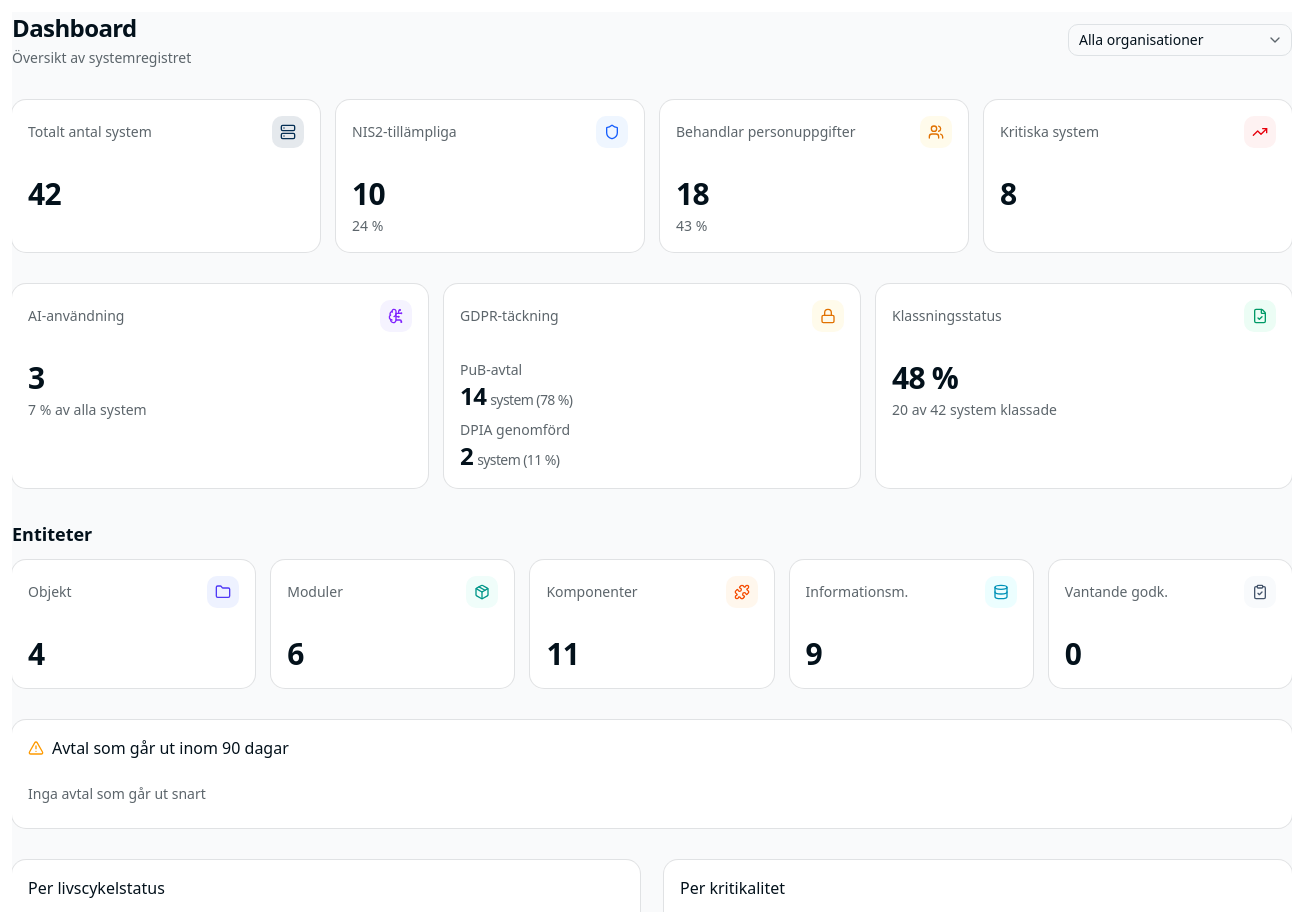
Scenario: DashboardPage › Organisation-filter › dropdown innehåller 'Alla organisationer'
Click the dropdown at (1180,40), box [1068,24,1292,56]
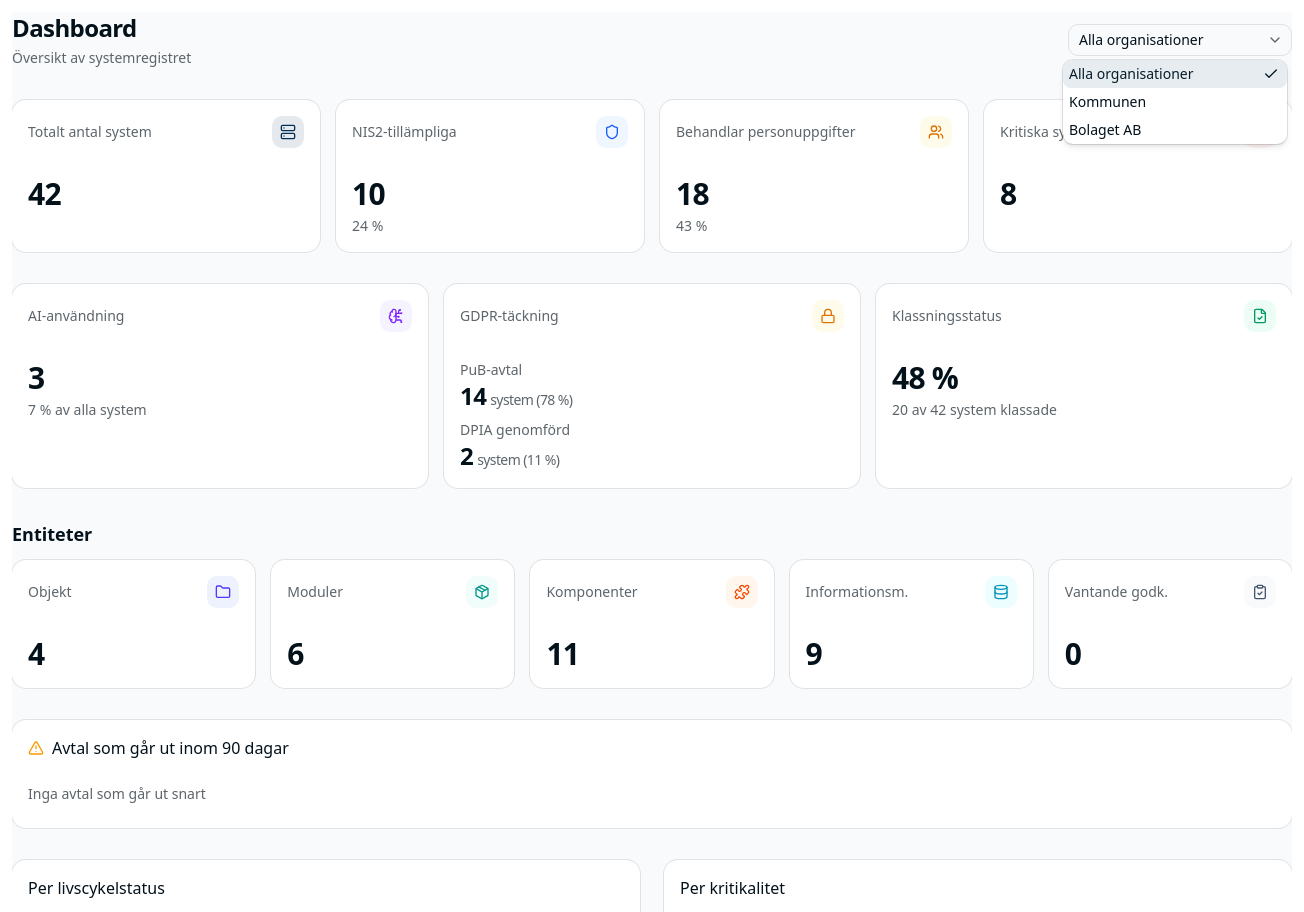
Check: the option "Alla organisationer" is shown, box [1063,60,1287,88]
